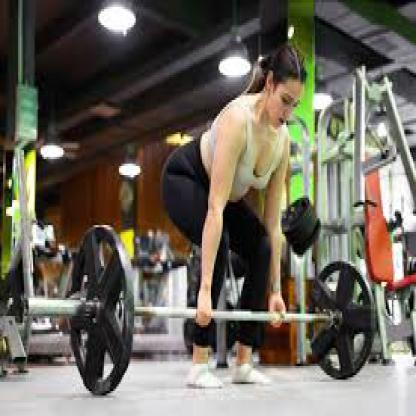Barbell: (65, 220, 137, 396)
